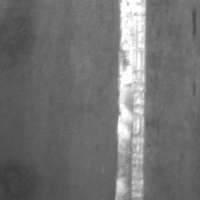scratches: (112, 0, 151, 199)
